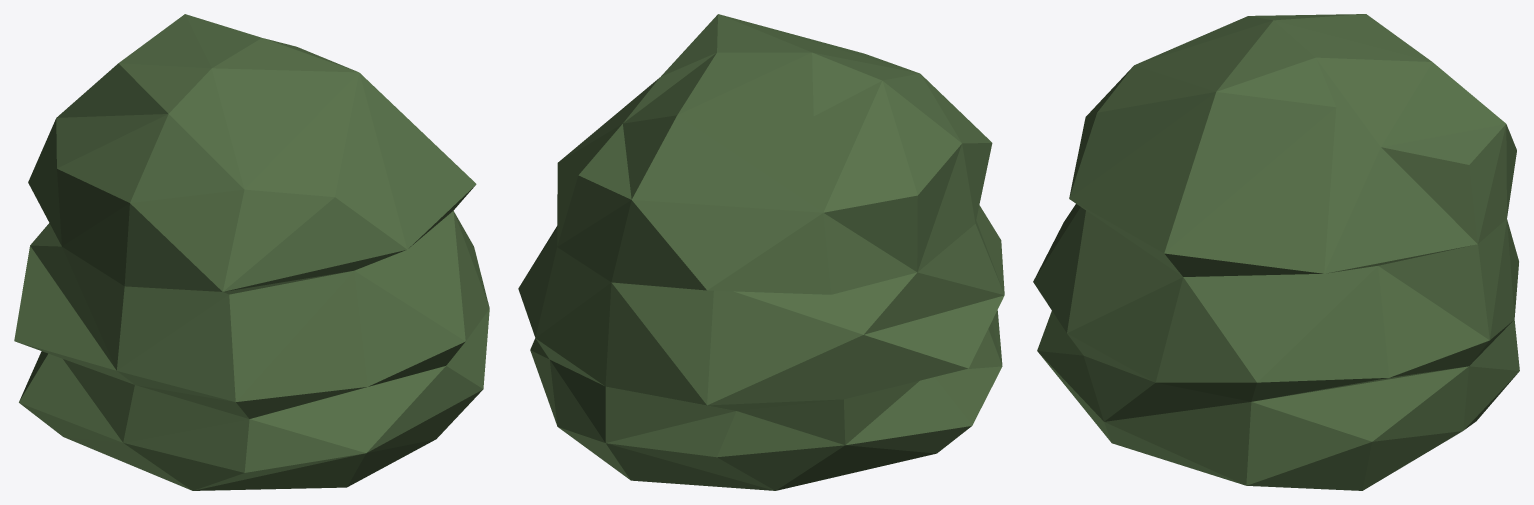
The model's file is Bush_2.lod1.glb.
3 renders of one model, left to right at view 1: azimuth 30°, elevation 25°; view 2: azimuth 150°, elevation 25°; view 3: azimuth 270°, elevation 25°, orthographic. The views are drawn at different scales.
Parts seen in each view (by area): view 1: Bush_2; view 2: Bush_2; view 3: Bush_2.
Boxes of the visible parts, x1=… form: Bush_2: x1=14, y1=14, x2=489, y2=490; Bush_2: x1=518, y1=14, x2=1004, y2=490; Bush_2: x1=1033, y1=14, x2=1519, y2=490.
Size of the model in its own units: 1.33 by 1.1 by 1.29.
